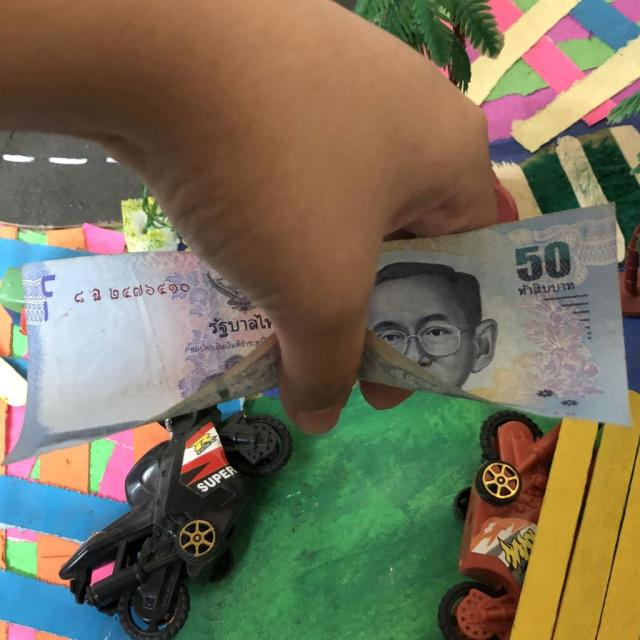THAI50: (358, 204, 629, 424), (8, 253, 279, 461)
